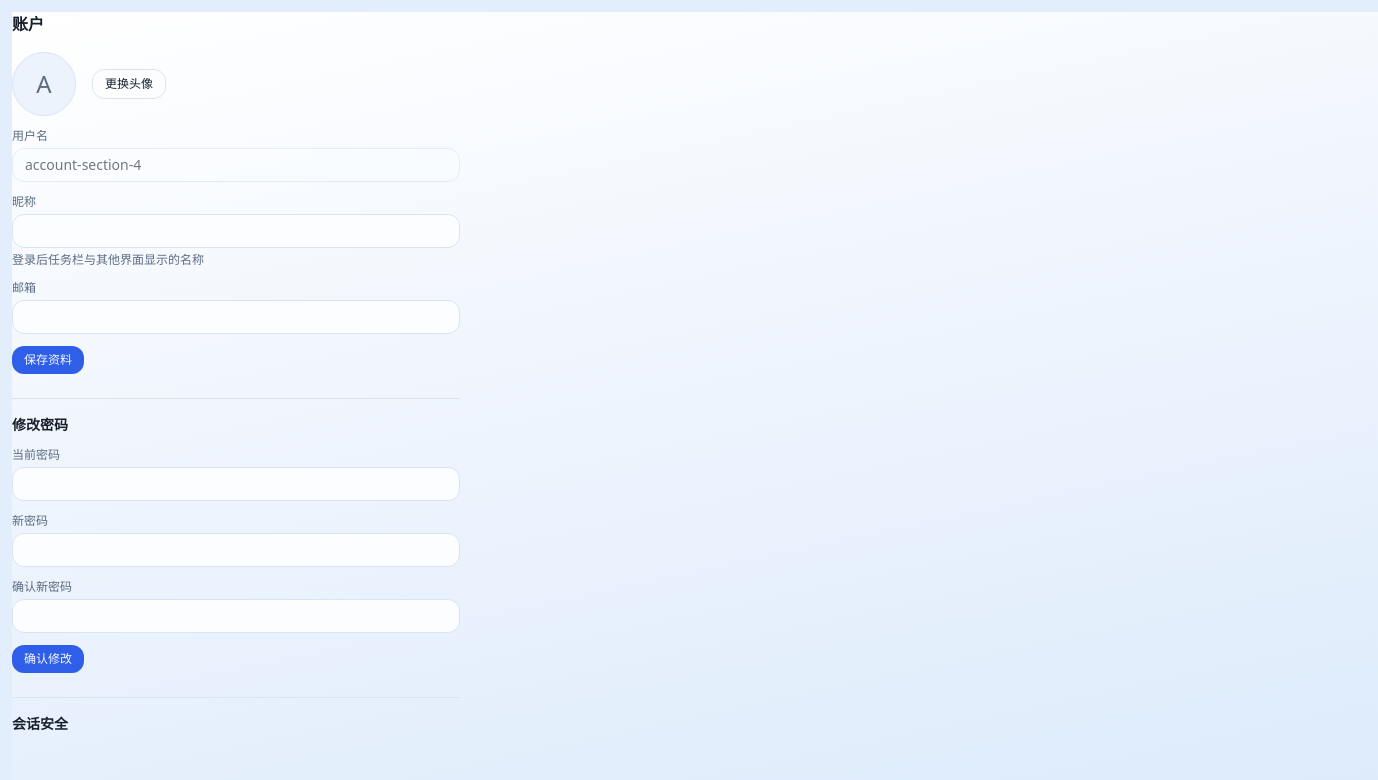
Test: AccountSection › changes the password and shows confirmation
Type "secret123" into the password field labelled "当前密码" at (236, 484), box [12, 467, 460, 501]
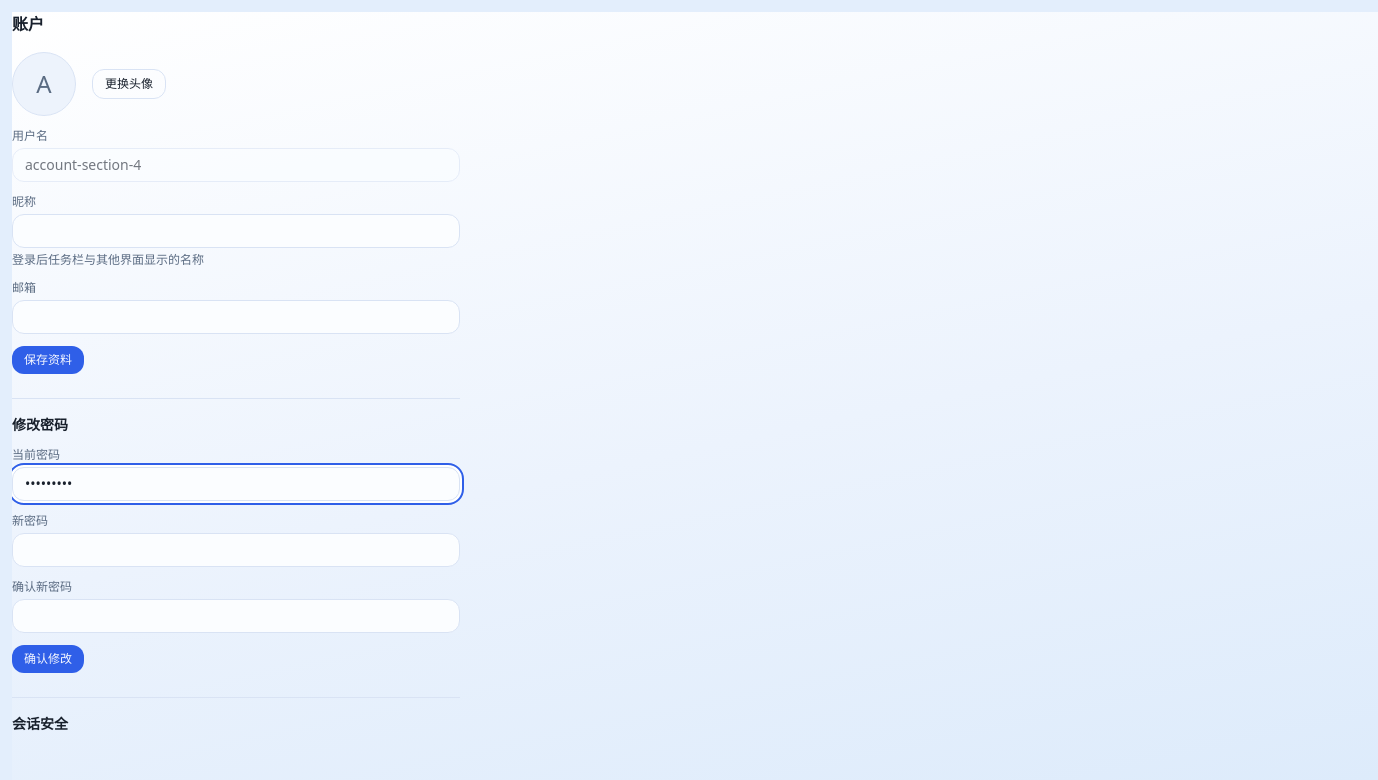
Type "newpass123" into the password field labelled "新密码" at (236, 550), box [12, 533, 460, 567]
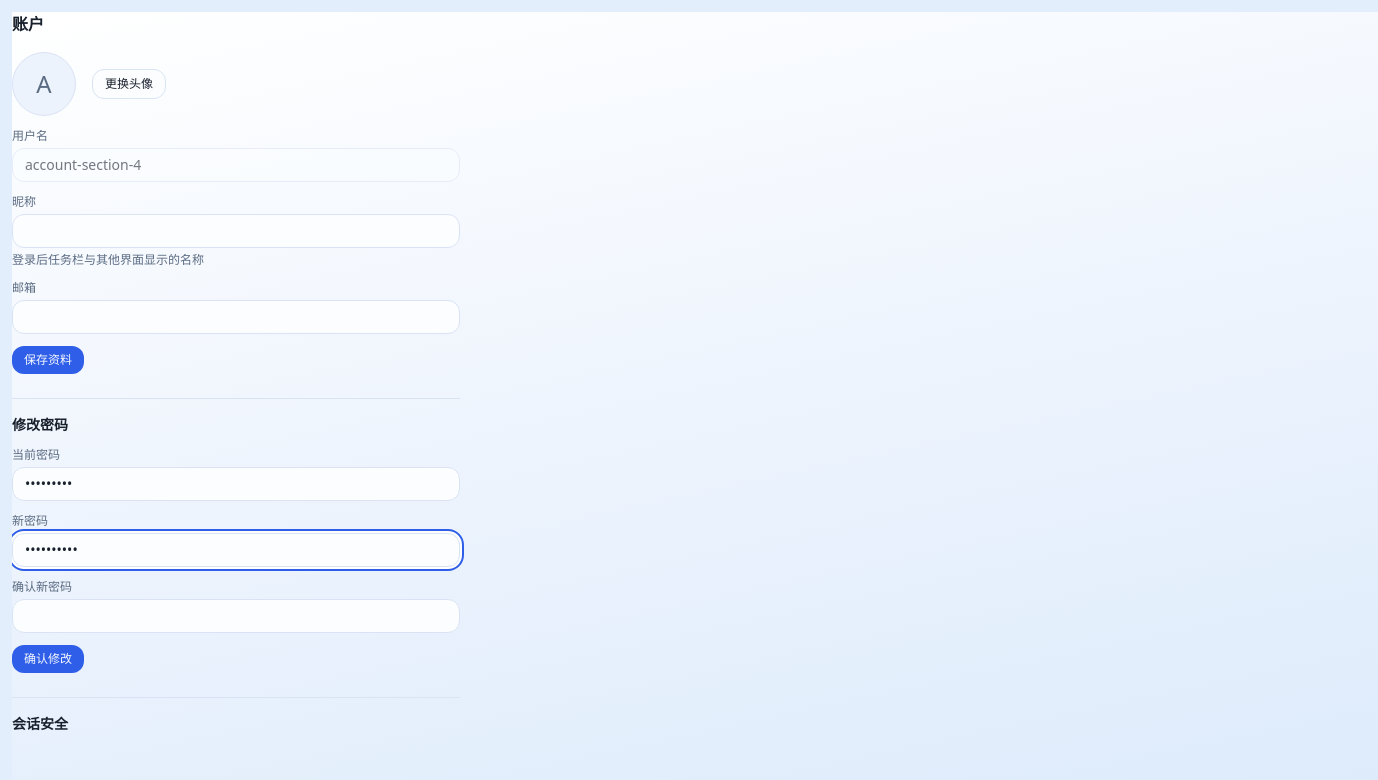
Type "newpass123" into the password field labelled "确认新密码" at (236, 616), box [12, 599, 460, 633]
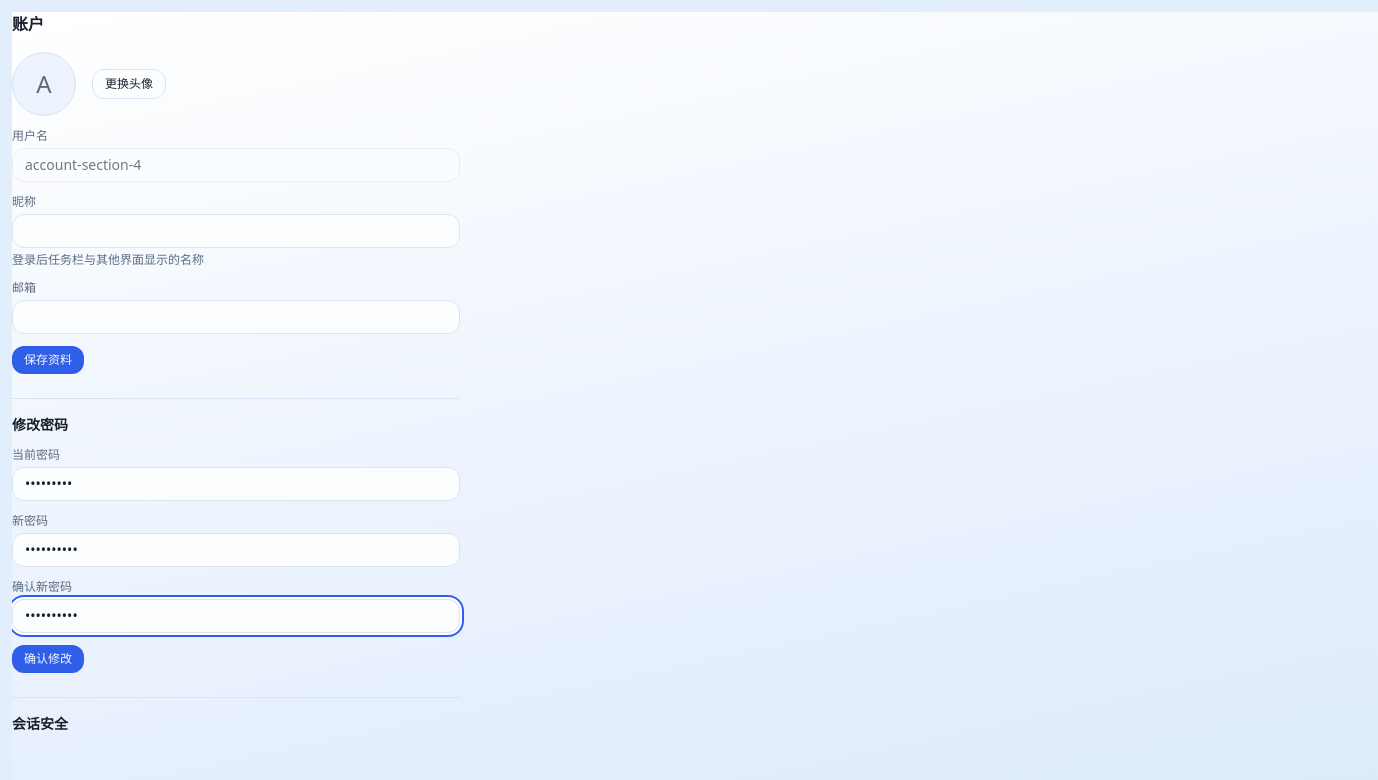
Click the button "确认修改" at (48, 659), box [12, 645, 84, 673]
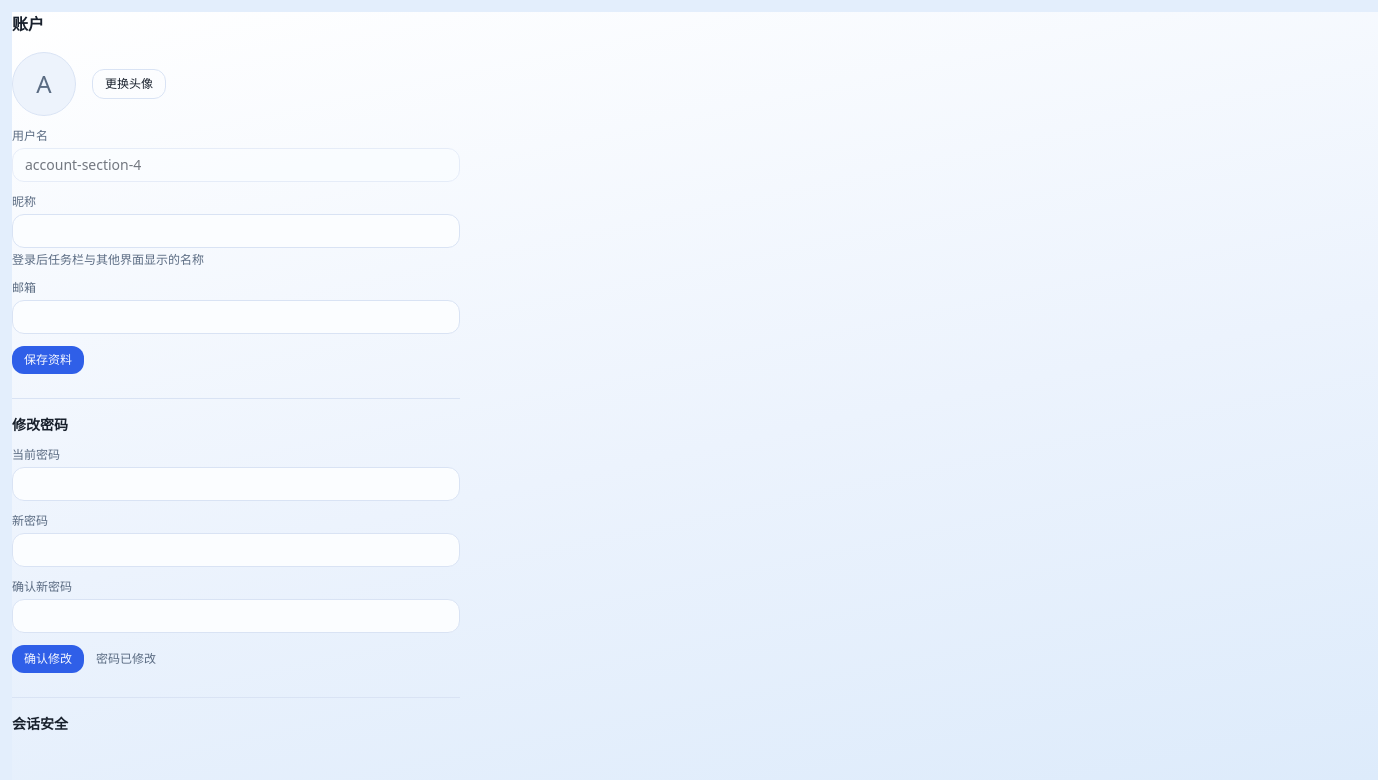
Check: the message reads "密码已修改", box [96, 650, 156, 667]
